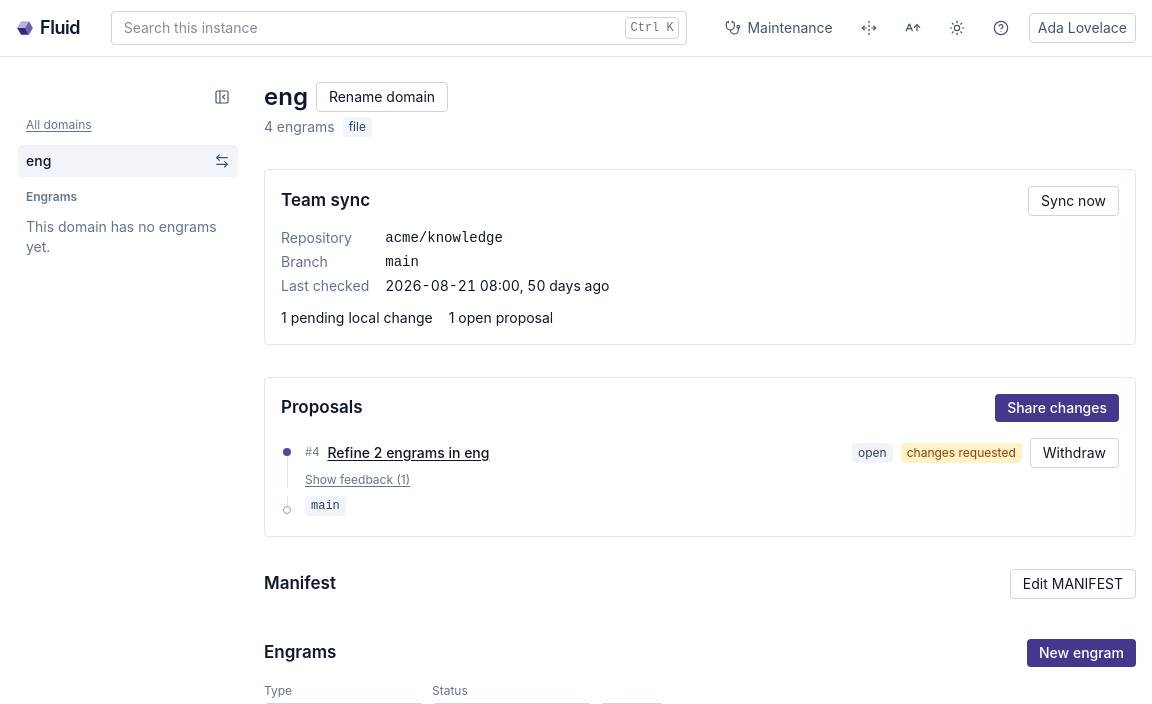
Test: the proposals card › names the identity a withdraw would go out on
What coordinates should you click on to do the following:
click the button "Withdraw"
I would click on:
 (1074, 453)
Its box is [1030,438,1119,468].
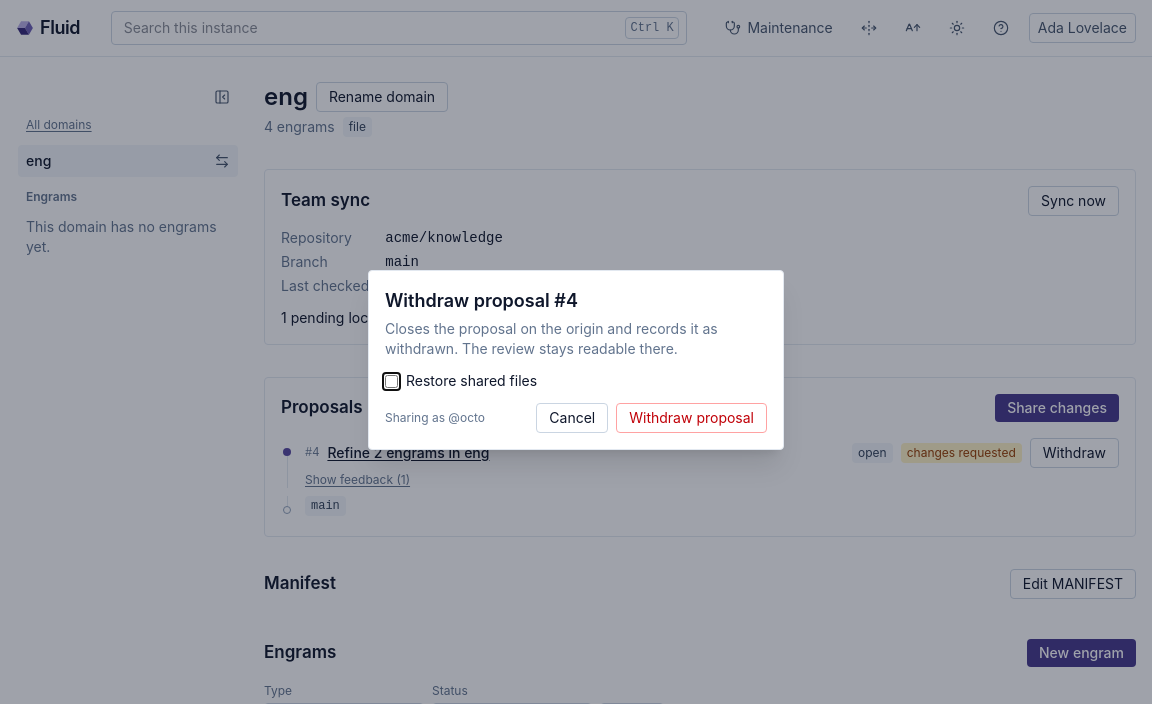
Expected: the text "Sharing as @octo" is shown, [385,410,485,426]
Expected: the button "Withdraw proposal" is enabled, [616,403,767,433]
